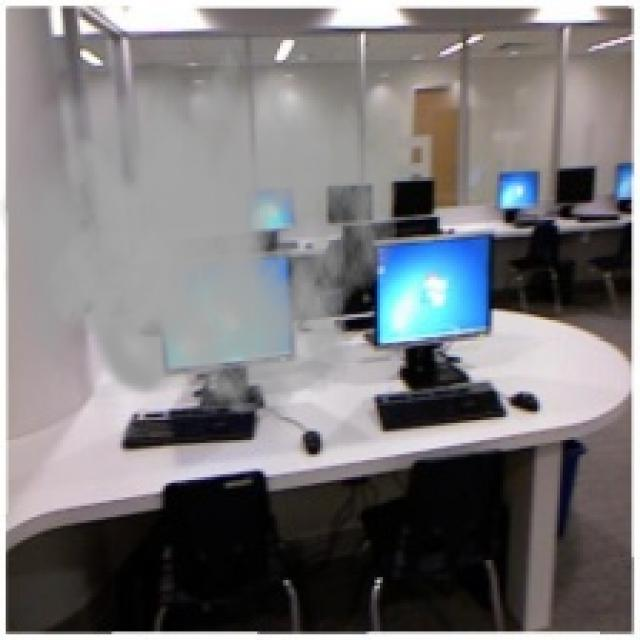smoke: (0, 26, 400, 428)
